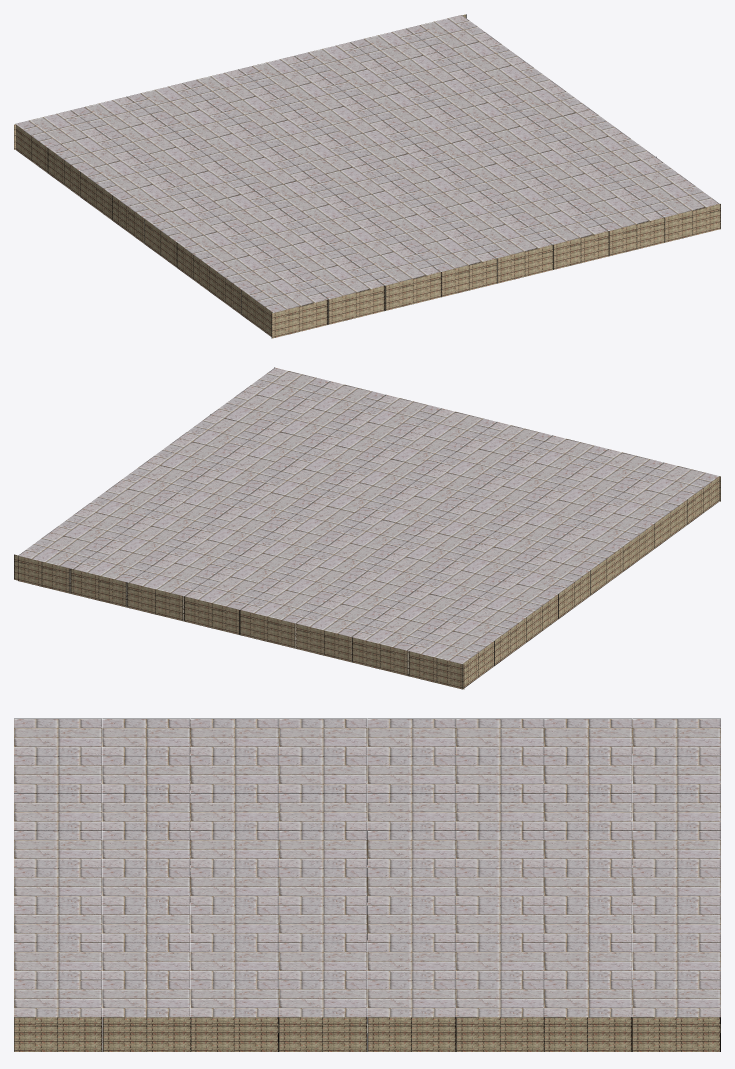
File: test_hall3_mapped.obj
The picture shows the model from 3 angles, top to bottom: view 1: azimuth 30°, elevation 25°; view 2: azimuth 150°, elevation 25°; view 3: azimuth 270°, elevation 25°; orthographic projection. The views are drawn at different scales.
Parts seen in each view (by area): view 1: mesh33, mesh02, mesh03, mesh36, mesh34, mesh35, mesh04, mesh01, mesh09, mesh29, mesh05, mesh17 (+68 smaller); view 2: mesh48, mesh60, mesh64, mesh40, mesh36, mesh44, mesh56, mesh04, mesh01, mesh03, mesh52, mesh35 (+68 smaller); view 3: mesh32, mesh63, mesh30, mesh31, mesh62, mesh10, mesh11, mesh12, mesh22, mesh23, mesh24, mesh35 (+60 smaller).
Boxes of the visible parts, x1,y1,x2,y2 form: mesh33: [112, 181, 199, 243]; mesh02: [209, 252, 295, 314]; mesh03: [176, 228, 263, 290]; mesh36: [15, 110, 102, 172]; mesh34: [79, 157, 166, 219]; mesh35: [47, 134, 134, 196]; mesh04: [144, 205, 231, 267]; mesh01: [241, 276, 328, 336]; mesh09: [353, 248, 439, 310]; mesh29: [632, 180, 719, 242]; mesh05: [297, 262, 384, 323]; mesh17: [465, 221, 551, 283]; mesh48: [241, 586, 327, 648]; mesh60: [74, 546, 160, 607]; mesh64: [18, 532, 104, 594]; mesh40: [352, 613, 438, 675]; mesh36: [407, 627, 494, 689]; mesh44: [296, 600, 382, 662]; mesh56: [129, 559, 215, 621]; mesh04: [536, 533, 622, 595]; mesh01: [633, 462, 719, 524]; mesh03: [568, 509, 654, 571]; mesh52: [185, 573, 271, 634]; mesh35: [439, 604, 526, 665]; mesh32: [279, 980, 367, 1051]; mesh63: [544, 980, 632, 1051]; mesh30: [102, 980, 190, 1051]; mesh31: [190, 980, 278, 1051]; mesh62: [456, 980, 544, 1051]; mesh10: [102, 793, 190, 830]; mesh11: [190, 793, 278, 830]; mesh12: [279, 793, 367, 830]; mesh22: [102, 905, 190, 942]; mesh23: [190, 905, 278, 942]; mesh24: [279, 905, 367, 942]; mesh35: [544, 718, 632, 755].
Bounding box in the file's own units: 7143 × 384 × 7062.
Materials: 1 (1 with a texture image).
